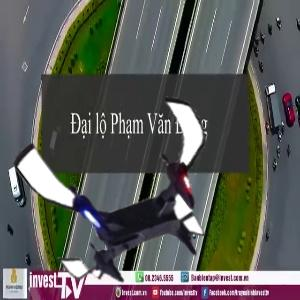drone: (26, 84, 235, 293)
